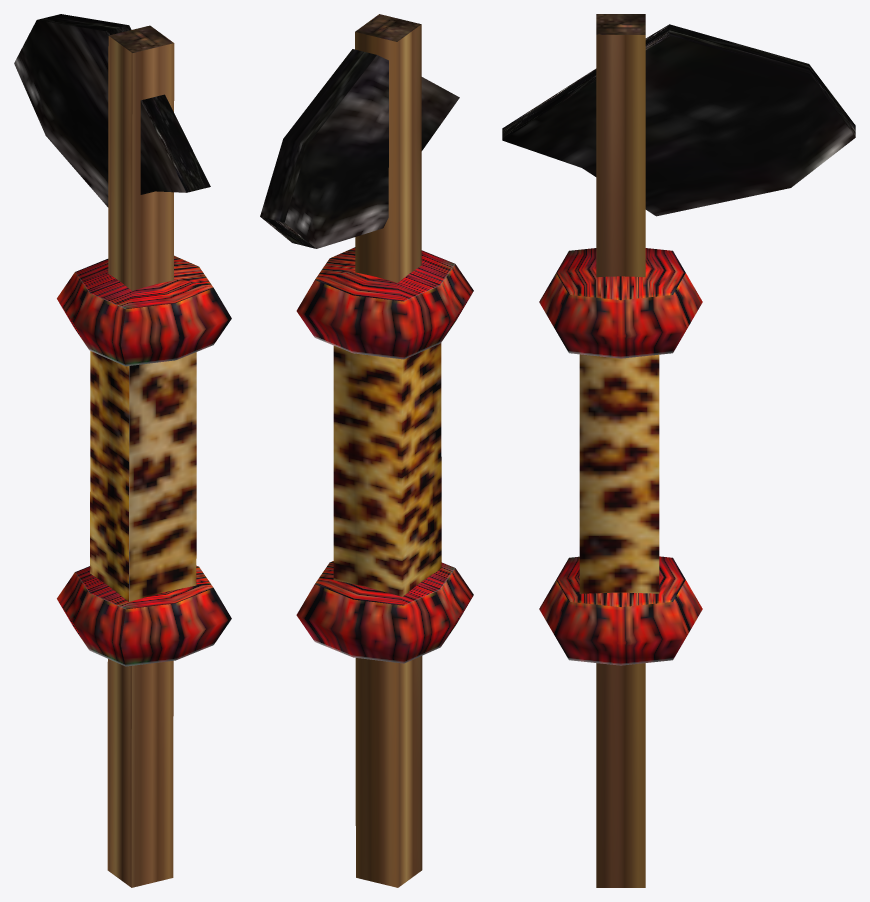
File: maya_machado_a2.dae
3 renders of one model, left to right at view 1: azimuth 30°, elevation 25°; view 2: azimuth 150°, elevation 25°; view 3: azimuth 270°, elevation 25°, orthographic. The views are drawn at different scales.
Visible parts, largest first — view 1: maya_machado_a2; view 2: maya_machado_a2; view 3: maya_machado_a2.
Boxes of the visible parts, x1,y1,x2,y2 form: maya_machado_a2: (14, 14, 231, 887); maya_machado_a2: (260, 14, 473, 887); maya_machado_a2: (502, 14, 855, 887).
Size of the model in its own units: 0.3411 by 0.738 by 1.97.
1 material, 1 textured.
